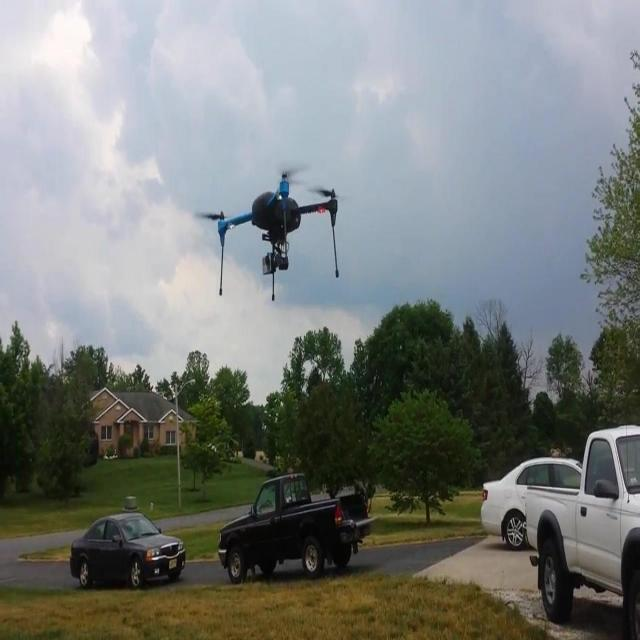UAV: (195, 163, 342, 301)
